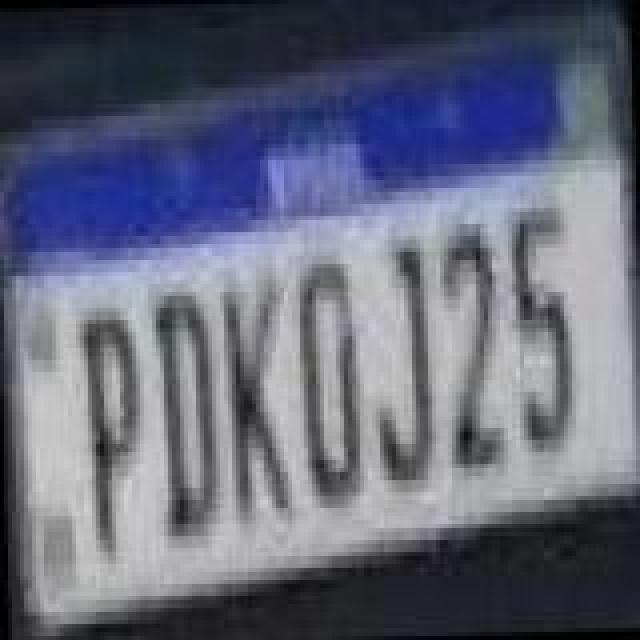2: (436, 226, 508, 478)
5: (508, 196, 580, 460)
D: (290, 250, 366, 510), (148, 286, 220, 546)
J: (370, 234, 438, 486)
K: (220, 268, 292, 532)
P: (76, 306, 148, 558)
